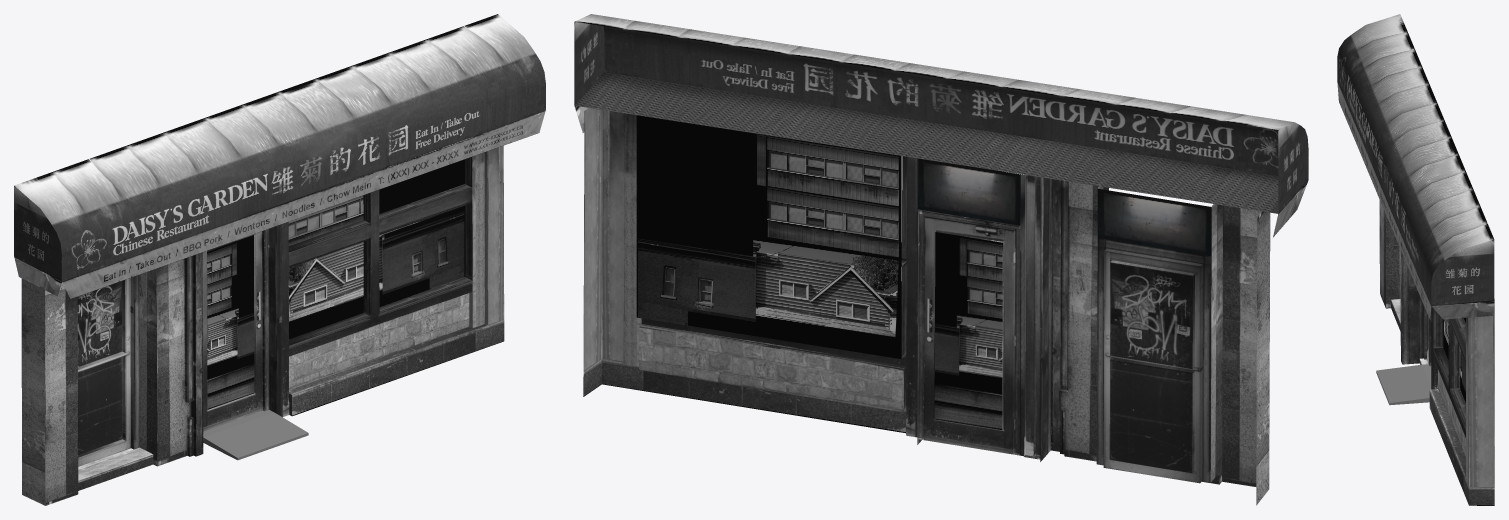
The model's file is daisys_garden.fbx.
The picture shows the model from 3 angles, left to right: view 1: azimuth 30°, elevation 25°; view 2: azimuth 150°, elevation 25°; view 3: azimuth 270°, elevation 25°; orthographic projection. The views are drawn at different scales.
Parts seen in each view (by area): view 1: daisys_garden, daisys_garden_windows; view 2: daisys_garden, daisys_garden_windows; view 3: daisys_garden, daisys_garden_windows.
Boxes of the visible parts, x1,y1,x2,y2 form: daisys_garden: [14, 14, 545, 505]; daisys_garden_windows: [207, 159, 465, 409]; daisys_garden: [574, 14, 1308, 505]; daisys_garden_windows: [636, 115, 1002, 429]; daisys_garden: [1337, 14, 1494, 505]; daisys_garden_windows: [1443, 318, 1465, 402].
Size of the model in its own units: 1014 by 558 by 293.
